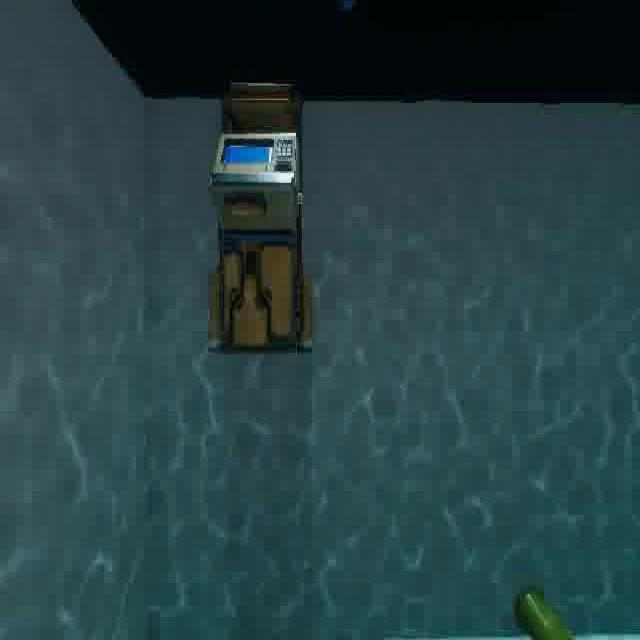Control Panel: (200, 62, 322, 364)
Pipe: (502, 563, 583, 640)
